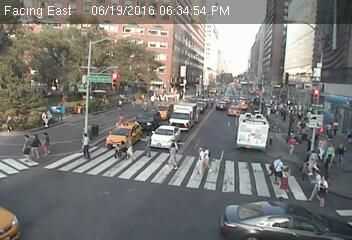neg: (289, 56, 309, 83), (256, 41, 275, 67), (226, 197, 245, 222), (202, 71, 220, 94), (275, 200, 292, 224), (265, 112, 282, 135), (139, 71, 156, 94), (163, 199, 180, 222), (65, 67, 82, 89), (22, 73, 39, 95), (167, 73, 183, 95), (113, 77, 129, 99), (100, 68, 115, 88), (75, 100, 90, 120), (43, 100, 57, 120), (231, 94, 245, 113), (201, 32, 215, 51), (114, 185, 128, 203)
pos: (74, 132, 97, 161), (160, 140, 182, 169), (194, 144, 215, 172), (38, 130, 59, 157), (316, 174, 336, 200), (29, 133, 47, 158), (271, 154, 289, 178), (17, 132, 35, 156), (308, 168, 324, 190), (288, 133, 304, 154)
